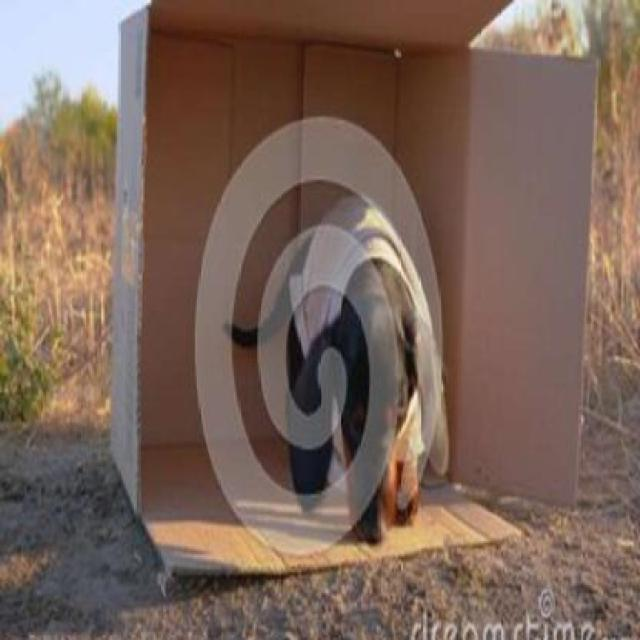box: (105, 0, 609, 587)
